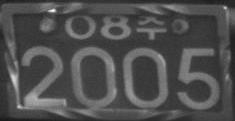0: (69, 45, 117, 108), (122, 47, 168, 110), (63, 12, 96, 40)
2: (20, 44, 67, 108)
5: (176, 47, 221, 110)
8: (99, 12, 132, 40)
주: (136, 13, 167, 40)
